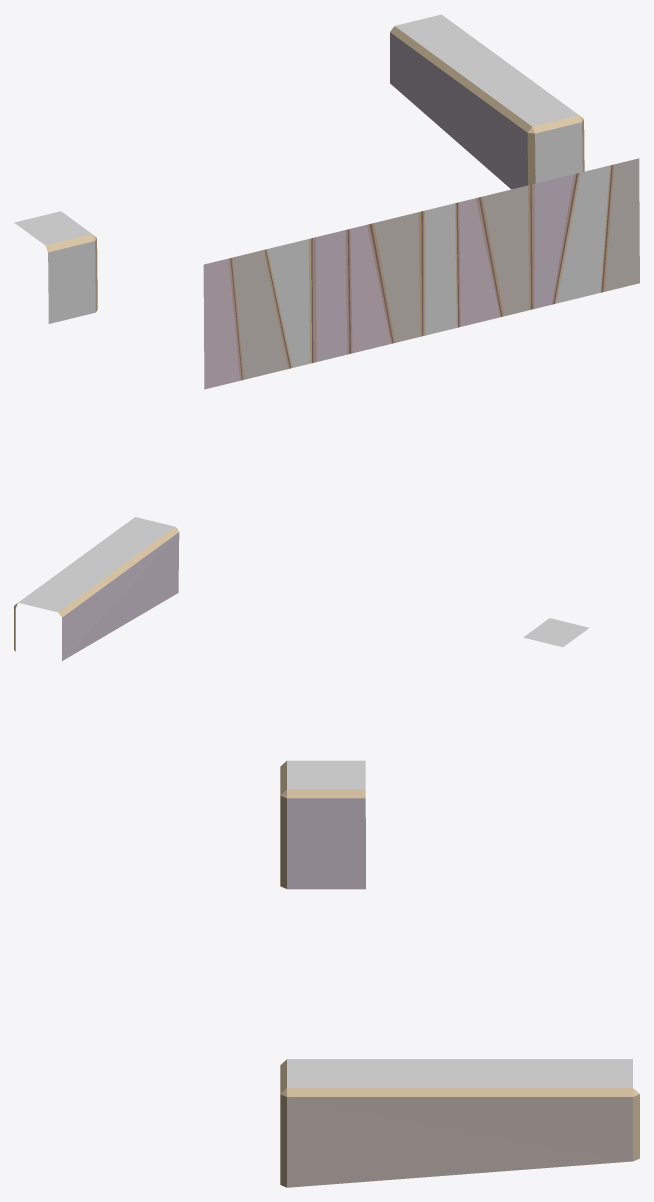
The model's file is CarsFunHutWood.glb.
3 views of the same model, one above another, from view 1: azimuth 30°, elevation 25°; view 2: azimuth 150°, elevation 25°; view 3: azimuth 270°, elevation 25° (orthographic). The views are drawn at different scales.
Visible parts, largest first — view 1: CarsFunHutWood; view 2: CarsFunHutWood; view 3: CarsFunHutWood.
Boxes of the visible parts, x1,y1,x2,y2 form: CarsFunHutWood: (14,14,639,389); CarsFunHutWood: (14,517,589,660); CarsFunHutWood: (280,760,639,1187).
Size of the model in its own units: 2.78 by 0.6166 by 2.22.
